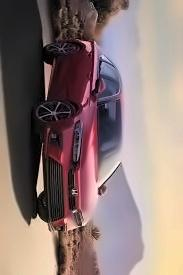Car hood: (76, 97, 103, 226)
Driver-s door - -F-R-: (49, 73, 125, 106)
Front bumper: (40, 118, 76, 233)
Headlight - -L-: (70, 205, 87, 230)
Headlight - -R-: (69, 116, 89, 164)
Passenger-s door - -R-R-: (52, 49, 126, 76)
Side bumper - -R-: (47, 49, 59, 107)
Side mirror - -L-: (93, 73, 106, 94)
Side mirror - -R-: (96, 175, 111, 200)
